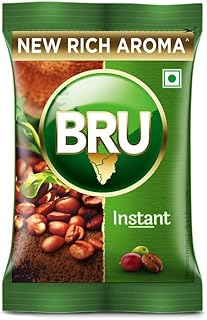Coffee: (3, 4, 203, 316)
